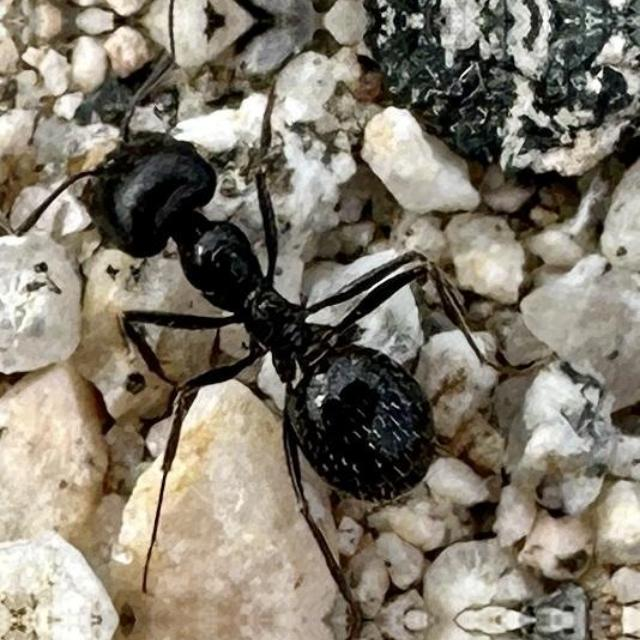Messor: (22, 82, 456, 532)
